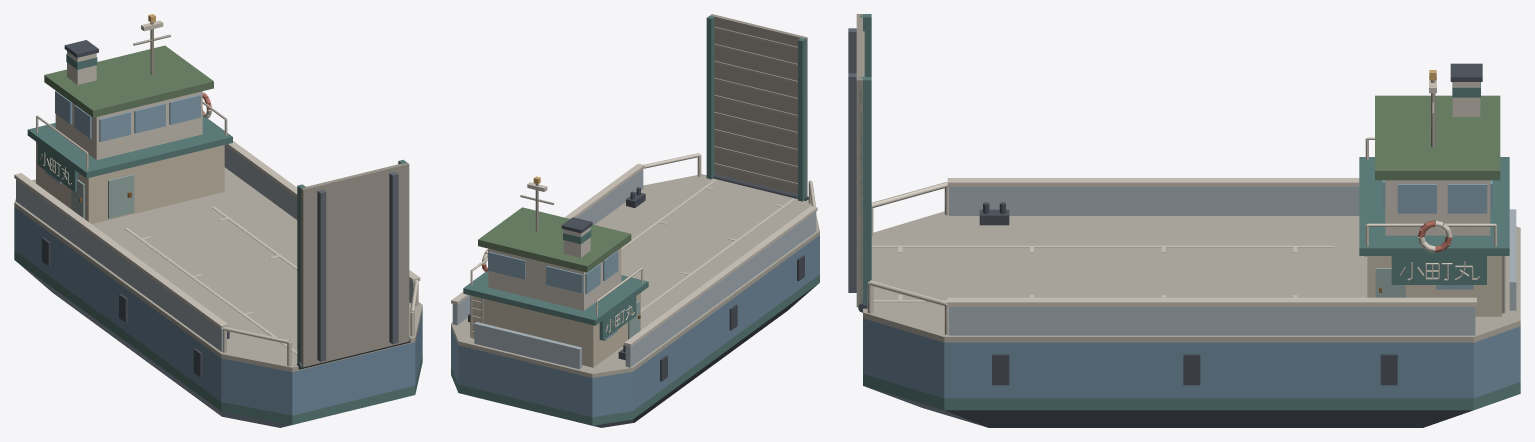
The model's file is komachi-island-ferry.glb.
3 renders of one model, left to right at view 1: azimuth 30°, elevation 25°; view 2: azimuth 150°, elevation 25°; view 3: azimuth 270°, elevation 25°, orthographic. The views are drawn at different scales.
Parts seen in each view (by area): view 1: Hull_Deck_And_Bulwarks, Stern_Wheelhouse_And_Fittings, Ramp, Komachi_Maru_Name_Boards; view 2: Hull_Deck_And_Bulwarks, Stern_Wheelhouse_And_Fittings, Ramp, Komachi_Maru_Name_Boards; view 3: Hull_Deck_And_Bulwarks, Stern_Wheelhouse_And_Fittings, Ramp, Komachi_Maru_Name_Boards.
Boxes of the visible parts, x1,y1,x2,y2 form: Hull_Deck_And_Bulwarks: [14, 141, 422, 427]; Stern_Wheelhouse_And_Fittings: [27, 14, 232, 223]; Ramp: [297, 159, 410, 369]; Komachi_Maru_Name_Boards: [37, 143, 78, 191]; Hull_Deck_And_Bulwarks: [451, 153, 819, 427]; Stern_Wheelhouse_And_Fittings: [463, 176, 648, 367]; Ramp: [706, 14, 808, 201]; Komachi_Maru_Name_Boards: [599, 296, 636, 340]; Hull_Deck_And_Bulwarks: [863, 178, 1520, 427]; Stern_Wheelhouse_And_Fittings: [1359, 63, 1509, 316]; Ramp: [848, 14, 871, 312]; Komachi_Maru_Name_Boards: [1391, 256, 1486, 284].
Bounding box in the file's own units: 0.97 × 1.16 × 2.15.
